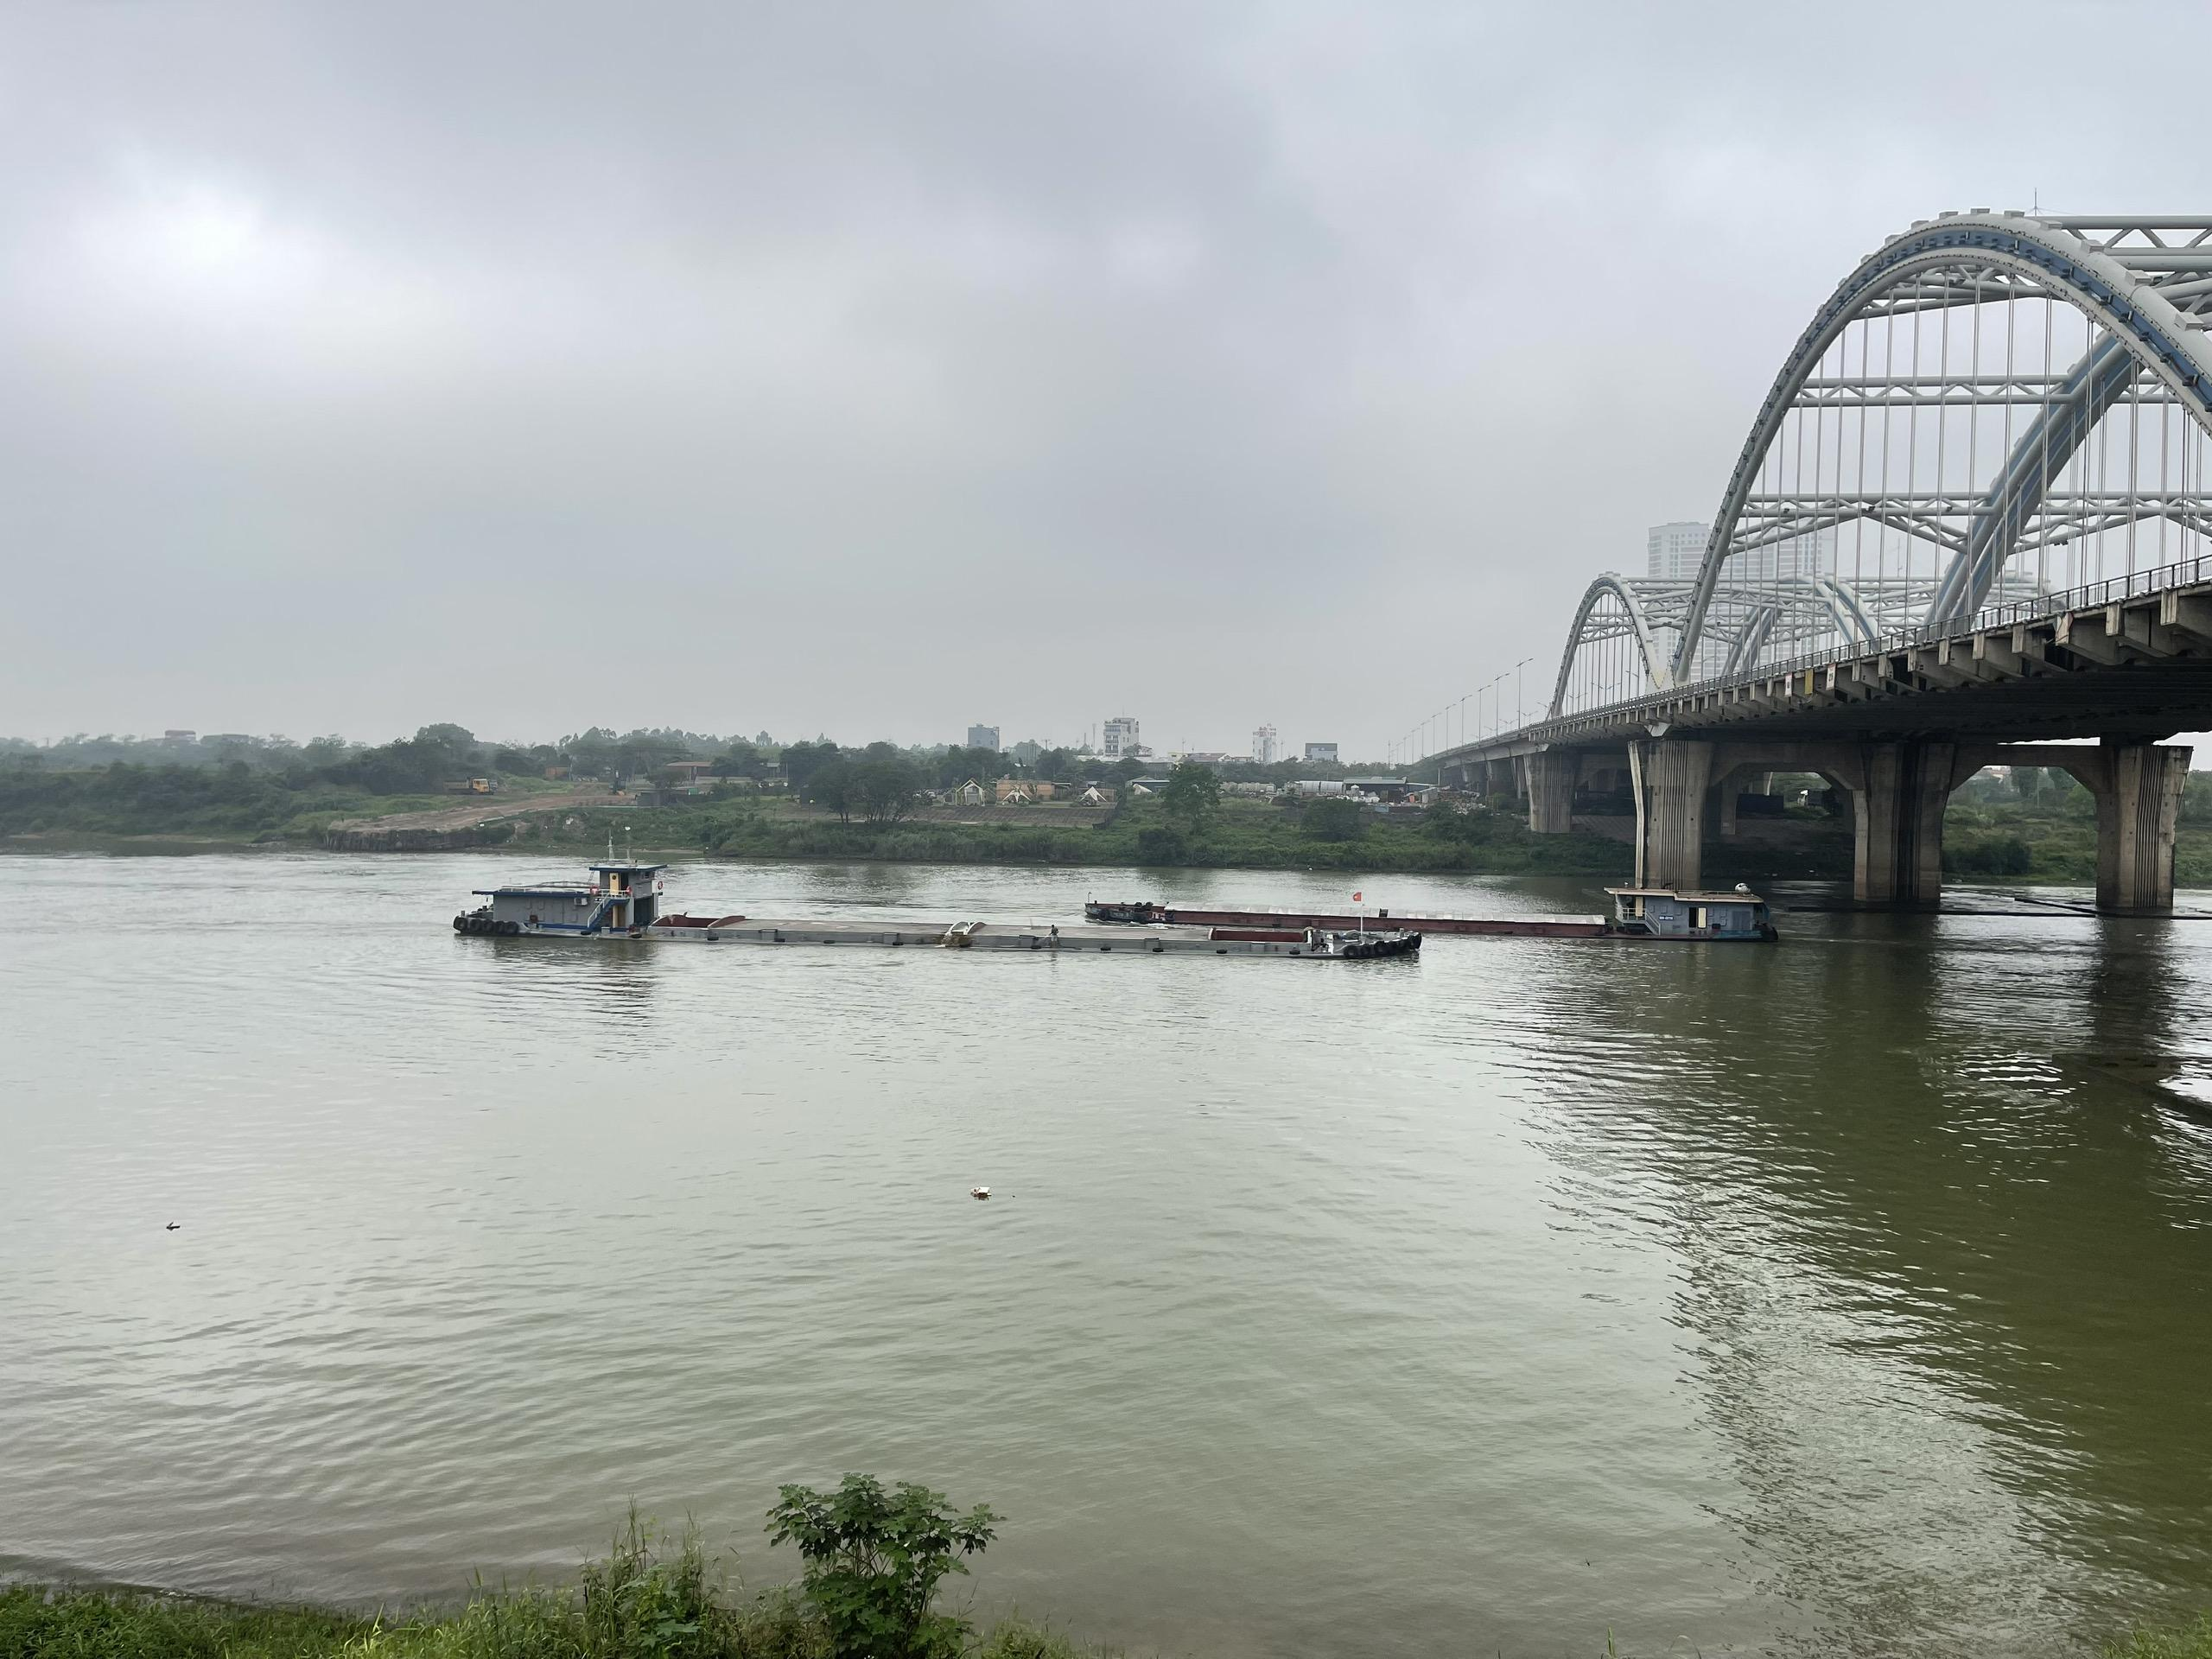Ship: (448, 871, 1423, 965), (1080, 868, 1778, 943)
